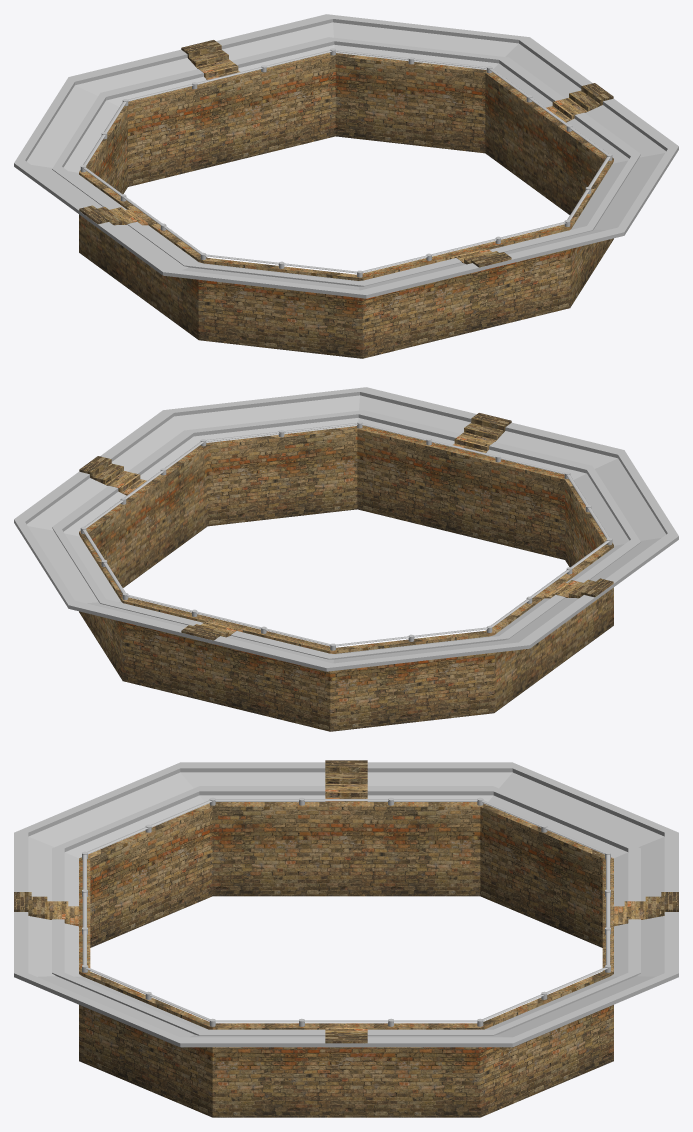
The model's file is Wall.fbx.
The picture shows the model from 3 angles, top to bottom: view 1: azimuth 30°, elevation 25°; view 2: azimuth 150°, elevation 25°; view 3: azimuth 270°, elevation 25°; orthographic projection. The views are drawn at different scales.
Parts seen in each view (by area): view 1: wall, AudienceSeats001, AudienceSeats, stairs003, stairs, stairs001, stairs002, tesuri, Cylinder022; view 2: wall, AudienceSeats001, AudienceSeats, stairs002, stairs, stairs001, stairs003, Cylinder022, tesuri; view 3: wall, AudienceSeats001, AudienceSeats, stairs001, stairs002, stairs003, stairs, Cylinder024, Cylinder023.
Part boxes in pixels (box(x1,y1,x2,y2)): wall: box(79, 52, 613, 358); AudienceSeats001: box(14, 14, 678, 298); AudienceSeats: box(52, 37, 640, 286); stairs003: box(181, 40, 242, 81); stairs: box(546, 83, 613, 122); stairs001: box(79, 205, 148, 225); stairs002: box(450, 248, 511, 267); tesuri: box(128, 50, 331, 101); Cylinder022: box(362, 222, 566, 272); wall: box(79, 425, 613, 731); AudienceSeats001: box(14, 387, 678, 671); AudienceSeats: box(52, 410, 640, 659); stairs002: box(450, 413, 511, 454); stairs: box(79, 456, 146, 495); stairs001: box(544, 578, 613, 598); stairs003: box(181, 621, 242, 640); Cylinder022: box(361, 423, 564, 474); tesuri: box(126, 595, 330, 645); wall: box(79, 802, 613, 1117); AudienceSeats001: box(14, 762, 678, 1047); AudienceSeats: box(52, 786, 640, 1035); stairs001: box(325, 760, 367, 801); stairs002: box(14, 892, 78, 926); stairs003: box(614, 892, 678, 926); stairs: box(325, 1027, 367, 1047); Cylinder024: box(215, 1020, 477, 1022); Cylinder023: box(215, 799, 477, 801).
Size of the model in its own units: 3157 by 544 by 3157.
